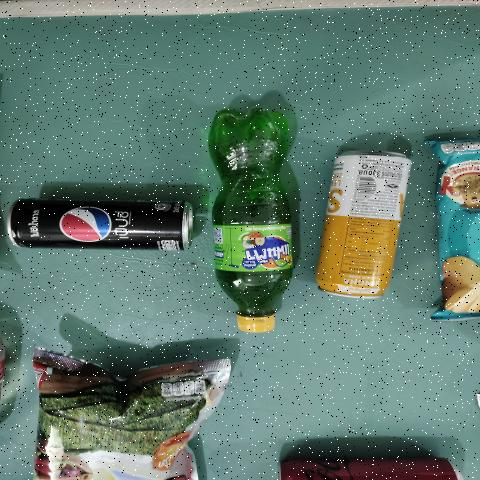fanta_green: (195, 98, 296, 332)
pepsi_black: (8, 198, 194, 254)
singha_yellow: (309, 138, 410, 308)
